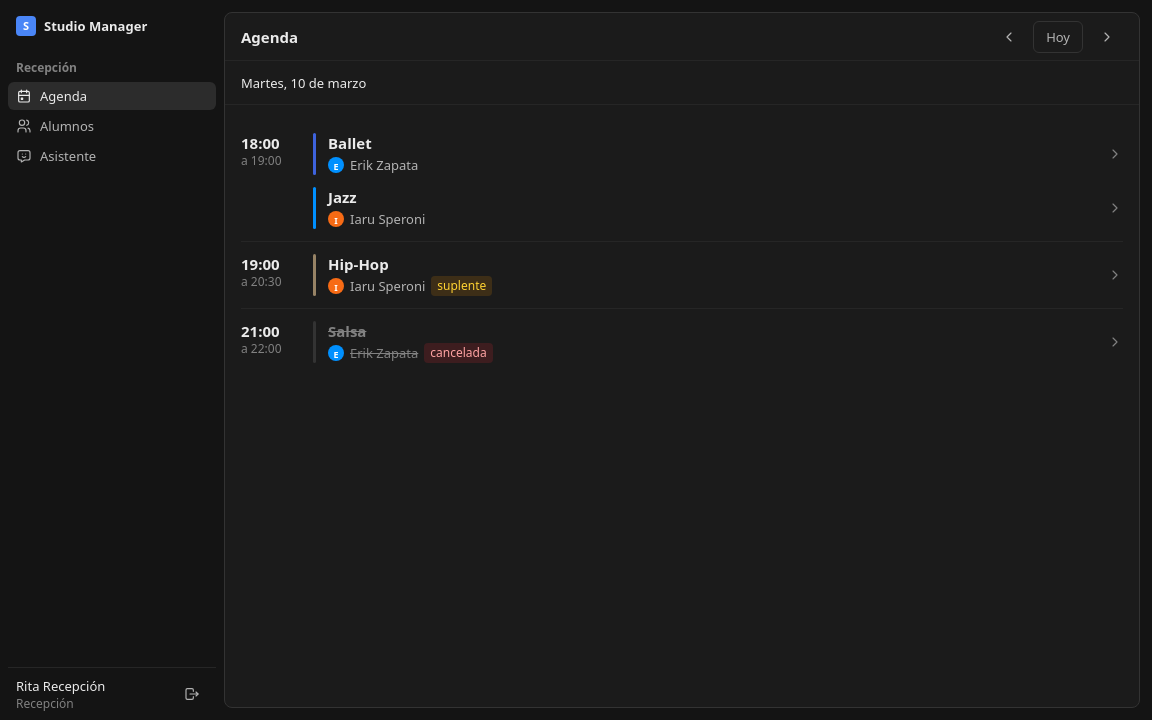
Test case: /agenda › tocar una clase lleva a su asistencia, que ya existe: no la abre con un POST
The image size is (1152, 720).
Click the link "Ballet E Erik Zapata" at (350, 143), box [313,133,1123,175]
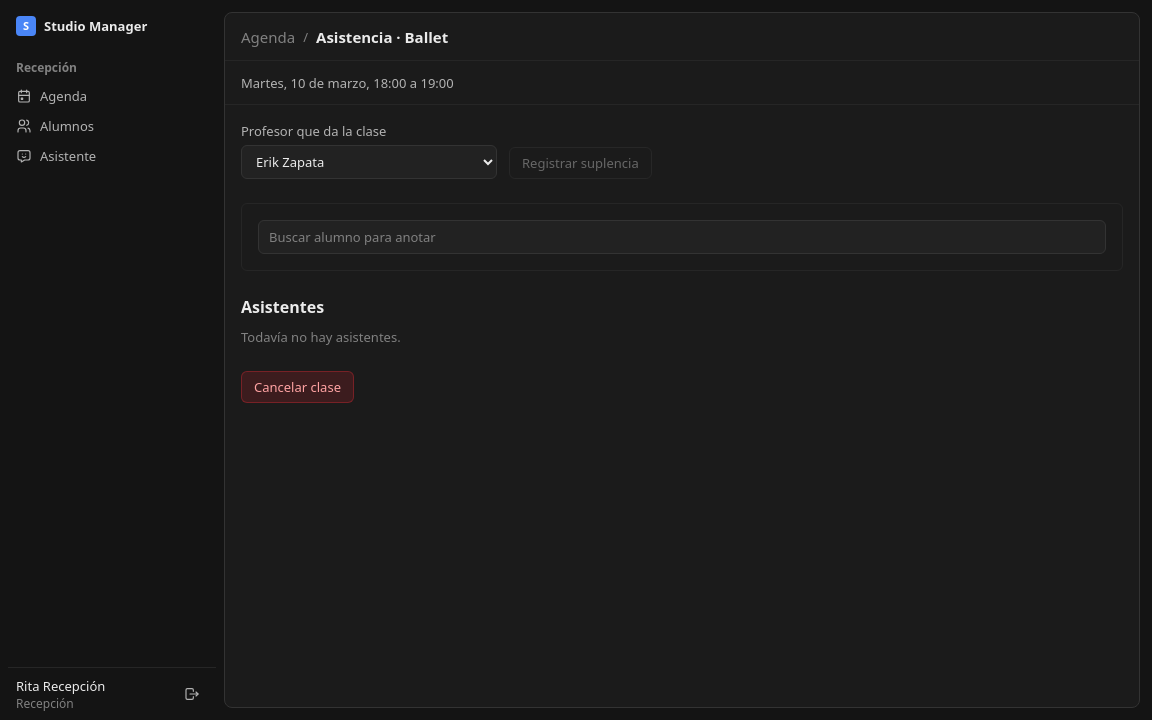
Now the heading "Asistencia · Ballet" is shown, box [316,26,448,46]
